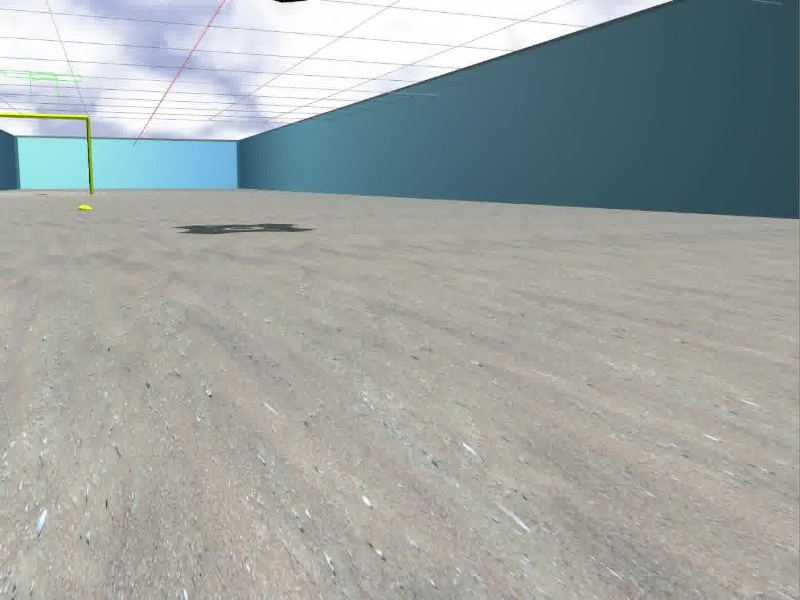gate: (1, 114, 93, 197)
